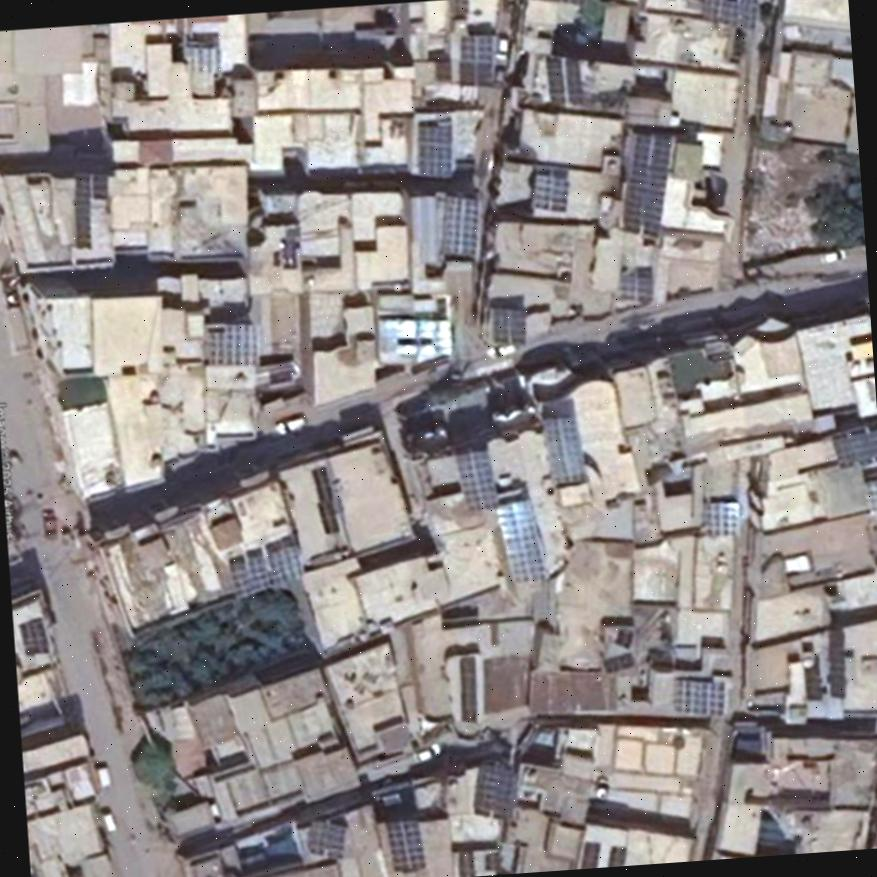Solarpanel: (621, 132, 670, 236), (492, 499, 545, 580), (231, 543, 301, 598), (377, 319, 453, 361), (543, 416, 585, 482), (457, 449, 497, 510), (474, 763, 517, 818), (386, 819, 425, 870), (674, 678, 724, 715), (313, 464, 340, 532), (444, 195, 474, 256), (211, 324, 259, 362), (419, 124, 453, 177), (546, 54, 580, 103), (459, 34, 491, 83), (835, 430, 877, 467), (702, 0, 756, 28), (306, 819, 345, 856), (531, 174, 567, 211), (74, 174, 89, 248), (704, 500, 736, 534), (830, 628, 845, 698), (618, 270, 654, 299), (494, 307, 526, 339), (462, 656, 476, 720), (20, 619, 45, 653), (578, 841, 599, 867), (805, 666, 821, 698), (92, 170, 106, 198), (459, 851, 474, 875), (607, 846, 626, 864)
